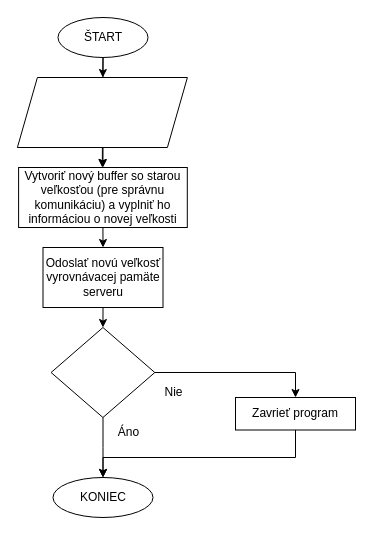
This 374x535 diagram has some shape labels left out. The shapes that lost their labels are listed below. From the top down, each one's centre as x and y in pixels, then its label:
point (101, 112): Získať na vstupe klientsky soket, novú veľkosť bufferov a starú veľkosť bufferov
point (102, 372): Úspešne?
